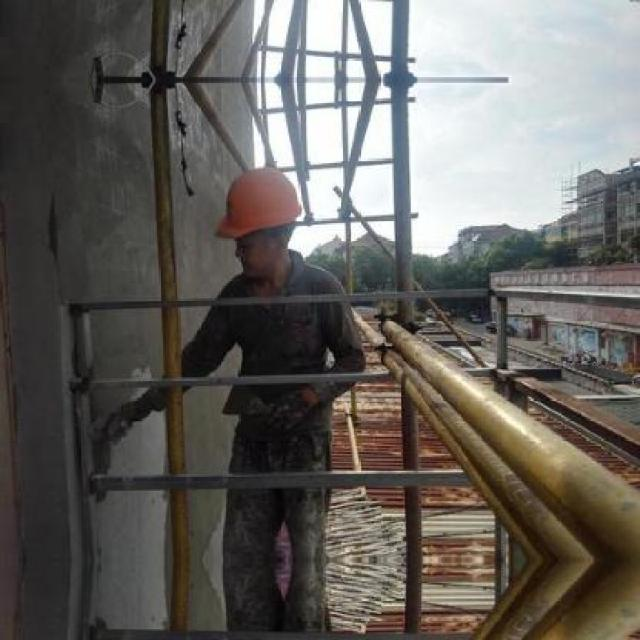helmet: (212, 158, 311, 288)
